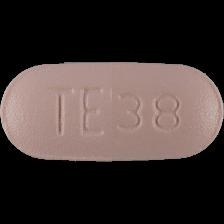42291-342: (0, 0, 224, 224)
